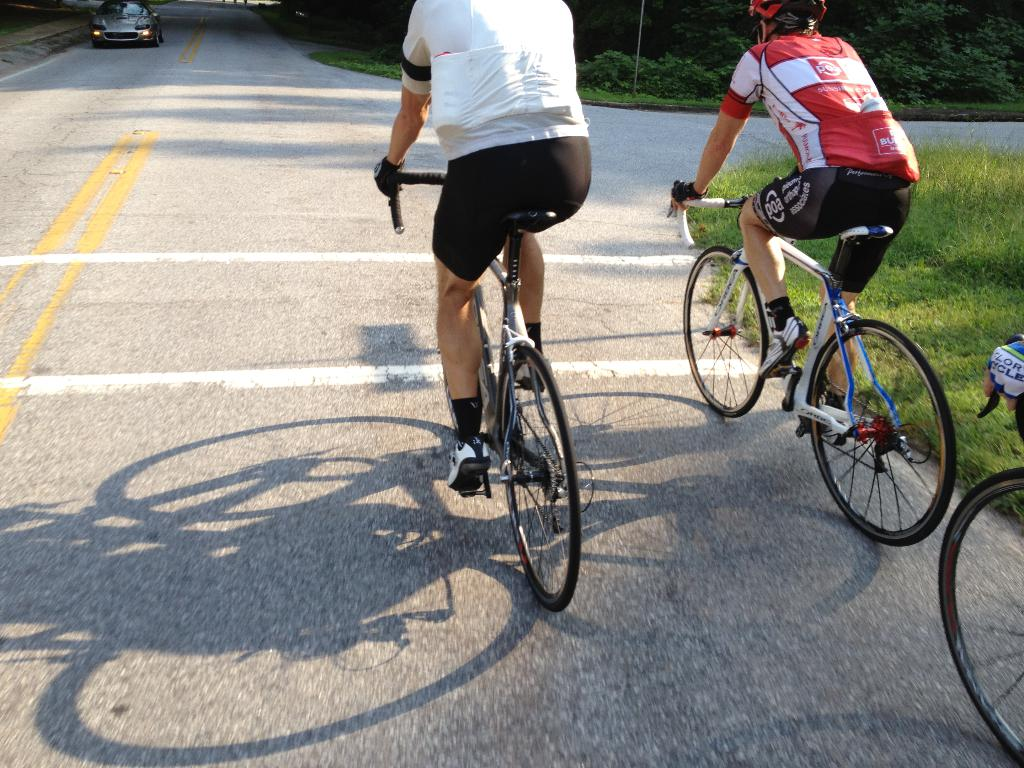Bike: (630, 180, 961, 581), (352, 171, 618, 647)
